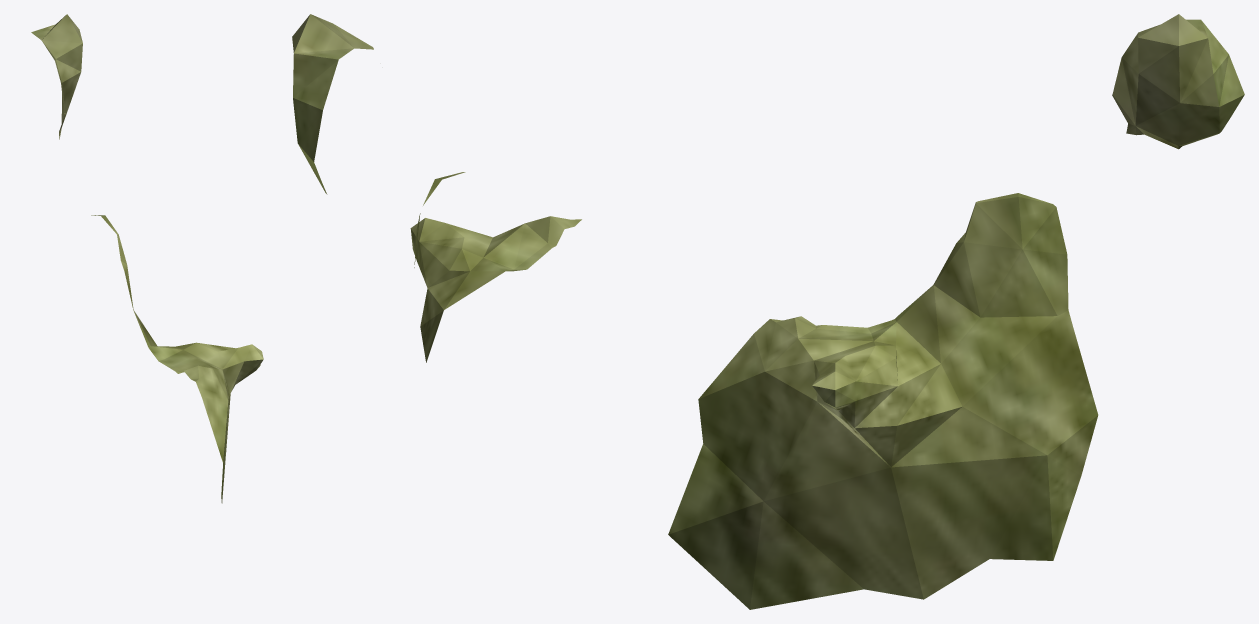
3 views of the same model, side by side, from view 1: azimuth 30°, elevation 25°; view 2: azimuth 150°, elevation 25°; view 3: azimuth 270°, elevation 25° (orthographic). The views are drawn at different scales.
Size of the model in its own units: 0.2636 by 1.3 by 1.1.
Materials: 1 (1 with a texture image).
